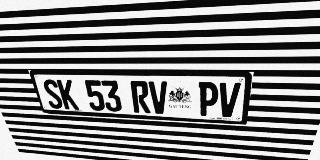3: (101, 80, 122, 112)
5: (84, 80, 106, 111)
K: (56, 80, 79, 110)
P: (198, 82, 219, 117)
R: (130, 81, 151, 113)
S: (41, 79, 64, 109)
V: (217, 82, 241, 118), (148, 81, 168, 114)
